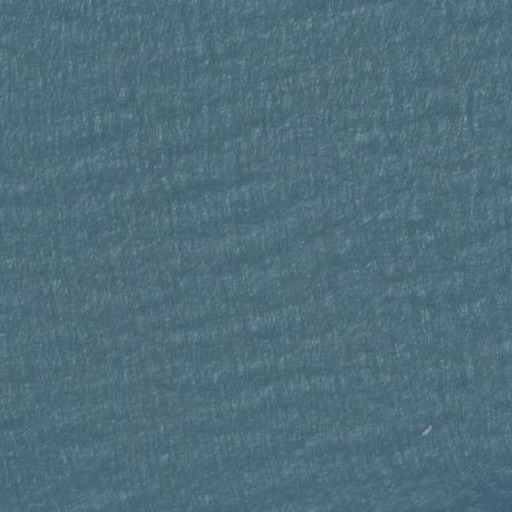ship: (417, 422, 435, 440)
